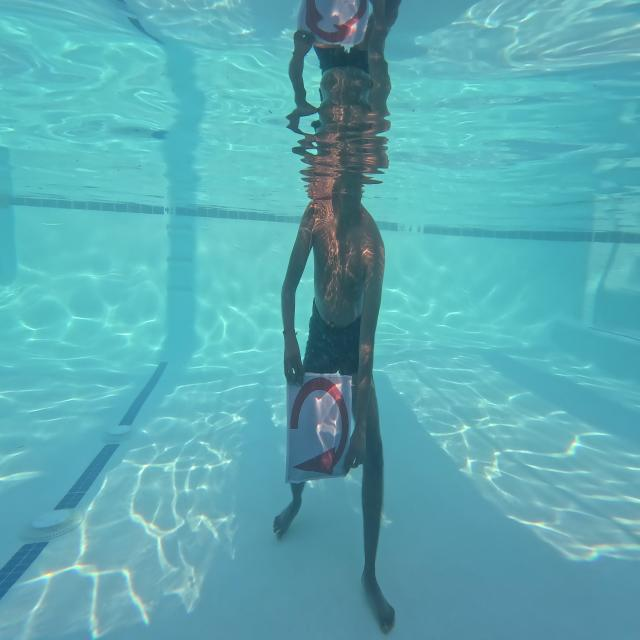red_side: (288, 370, 349, 480)
